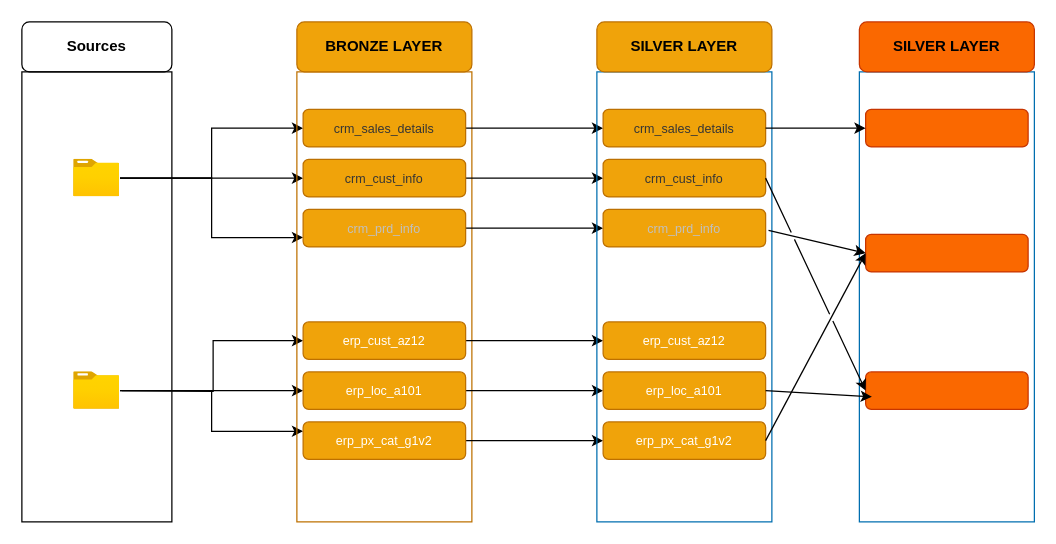
This 1056x544 diagram has some shape labels left out. Each missing label, with the box of its shape:
CRM: (73, 159, 119, 196)
dim_customers: (864, 371, 1028, 409)
dim_products: (864, 233, 1028, 272)
ERP: (73, 371, 119, 409)
fact_sales: (864, 108, 1028, 147)
